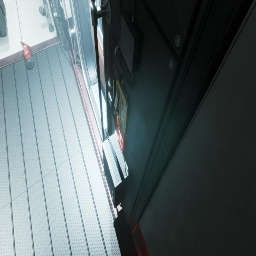EmergencyPhone ,: (113, 64, 131, 135)
FireAlarm ,: (117, 116, 127, 152)
FireExtinguisher ]: (20, 41, 34, 68)
SafetySwitchPanel ,: (59, 0, 72, 20)
